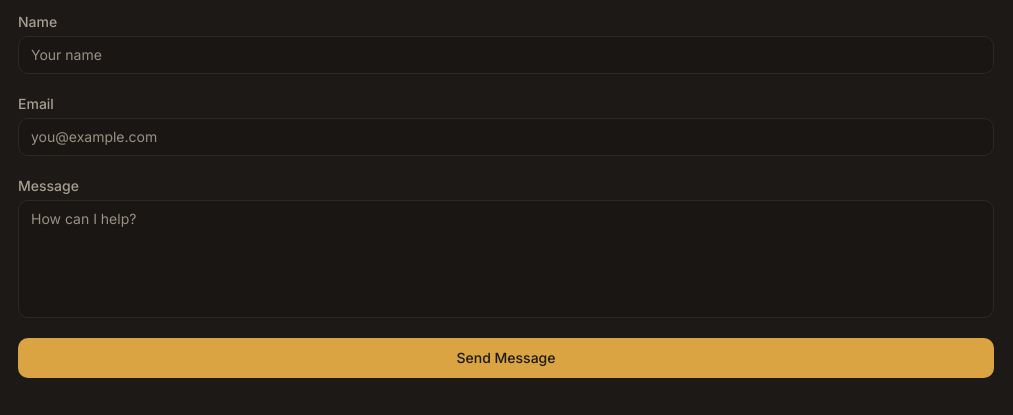
Test case: ContactForm › shows email validation error for invalid email format
Type "Jane" into the field labelled "Name" at (506, 55), box x1=18 y1=36 x2=994 y2=74
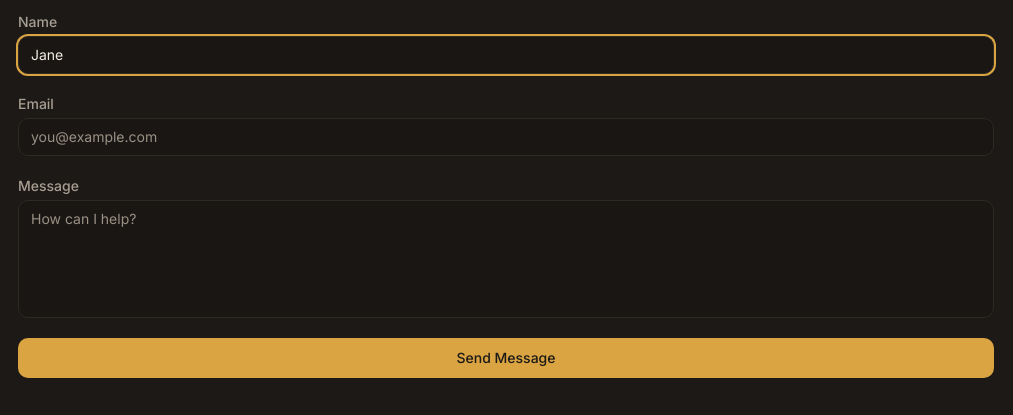
Type "not-an-email" into the field labelled "Email" at (506, 137), box x1=18 y1=118 x2=994 y2=156
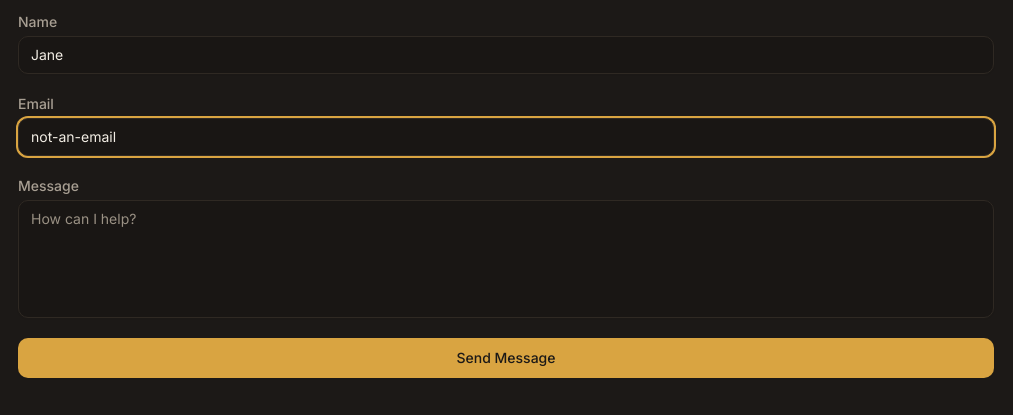
Type "Hello" into the text box labelled "Message" at (506, 259), box x1=18 y1=200 x2=994 y2=318
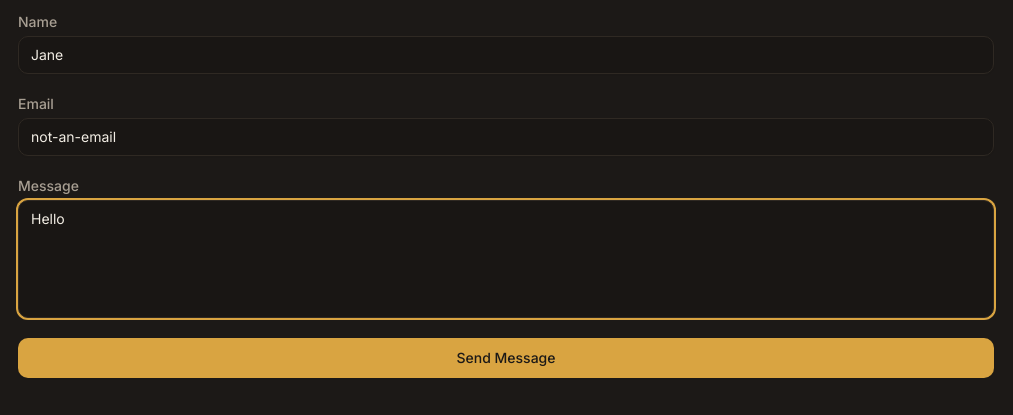
// Submit the form directly via fireEvent (more reliable in jsdom)
Submit the form "Name Email Message Send Message"
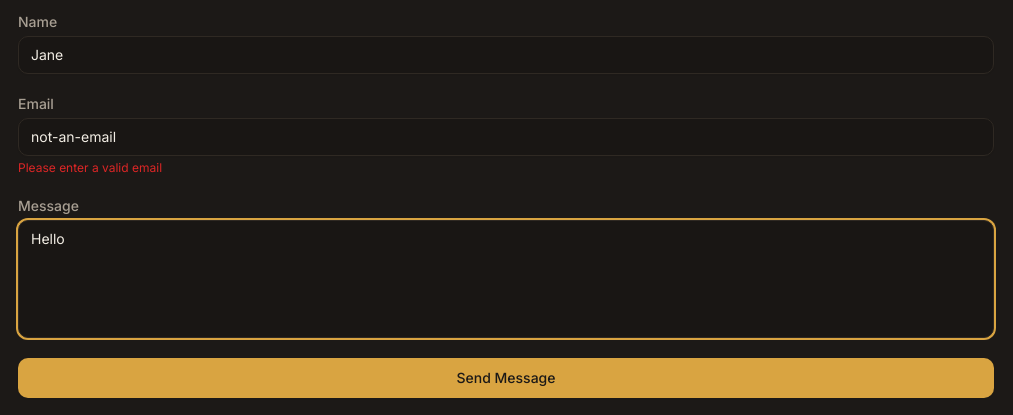
Check: the text "Please enter a valid email" is shown, box x1=18 y1=160 x2=162 y2=175
